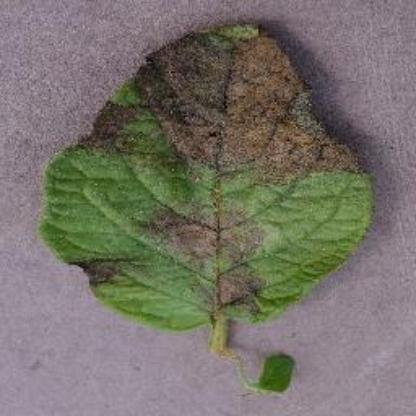Late-Blight: (34, 8, 386, 400)
